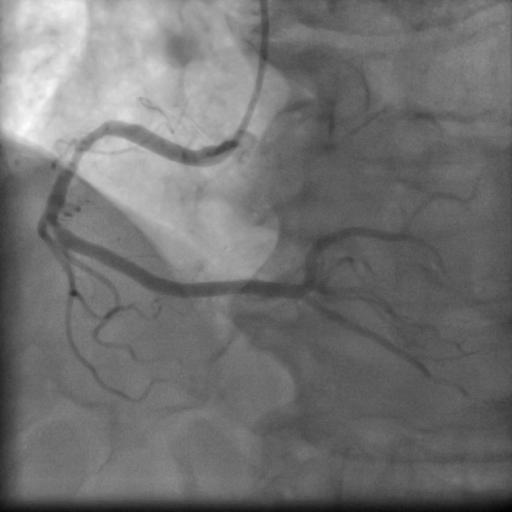Stenosis: (48, 124, 91, 219)
